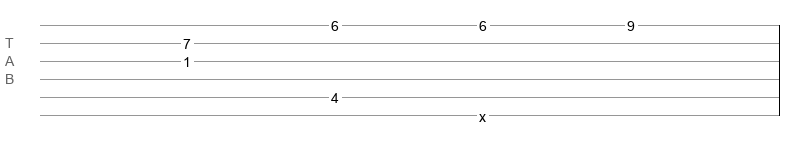1: (183, 54, 191, 64)
4: (331, 90, 339, 100)
6: (331, 18, 339, 28), (479, 18, 487, 28)
7: (183, 36, 191, 46)
9: (627, 18, 635, 28)
x: (479, 109, 486, 117)
